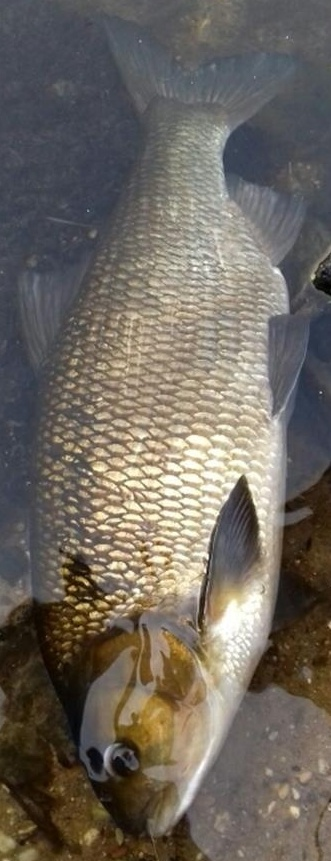Leuciscus idus: (20, 20, 311, 841)
